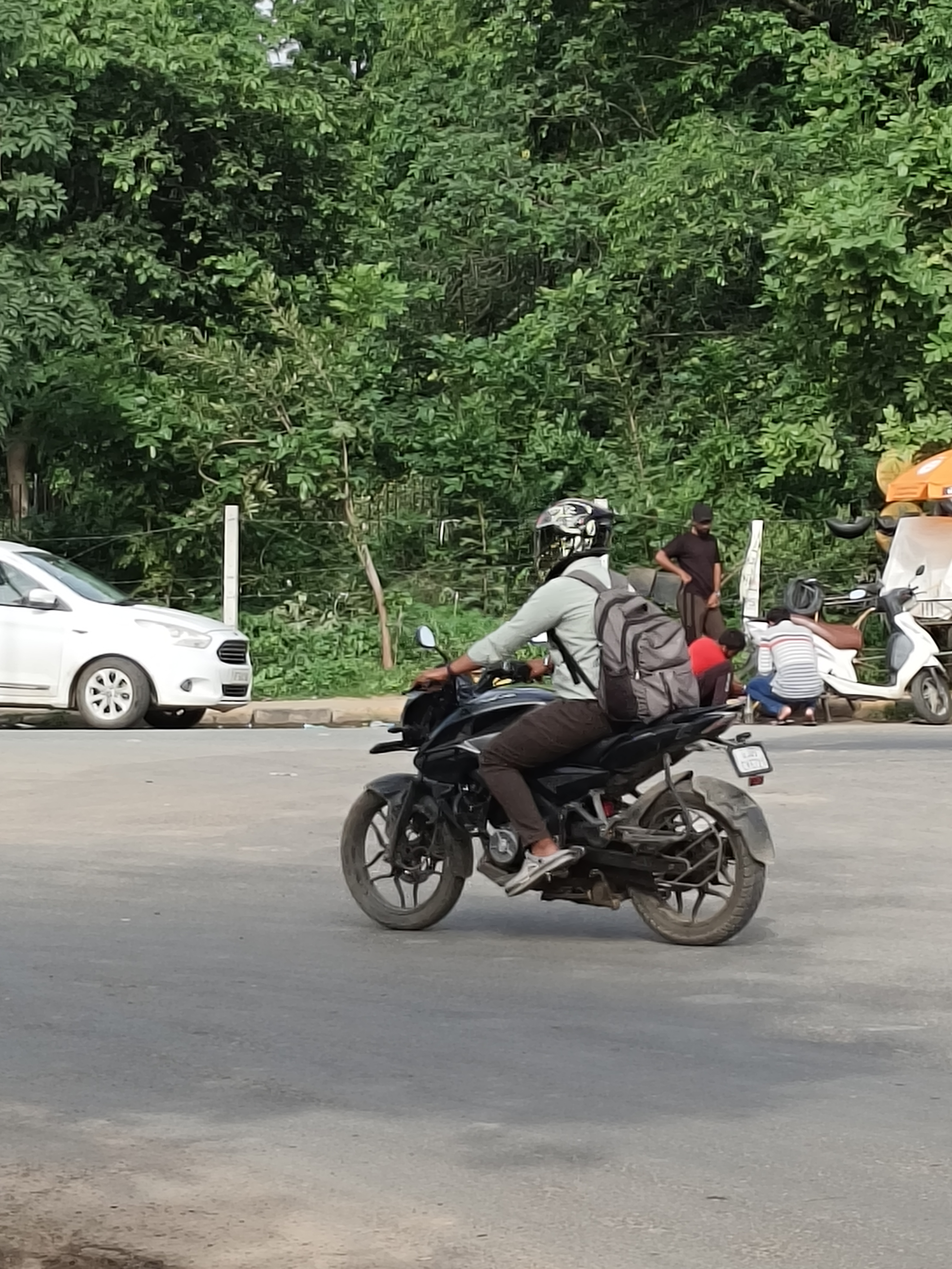BikeWithRider: (323, 486, 790, 954)
Helmet: (520, 488, 627, 587)
